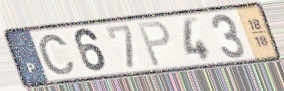3: (210, 12, 246, 60)
4: (182, 16, 213, 63)
6: (73, 27, 109, 75)
7: (103, 22, 137, 70)
C: (37, 33, 78, 77)
P: (136, 19, 173, 69)
